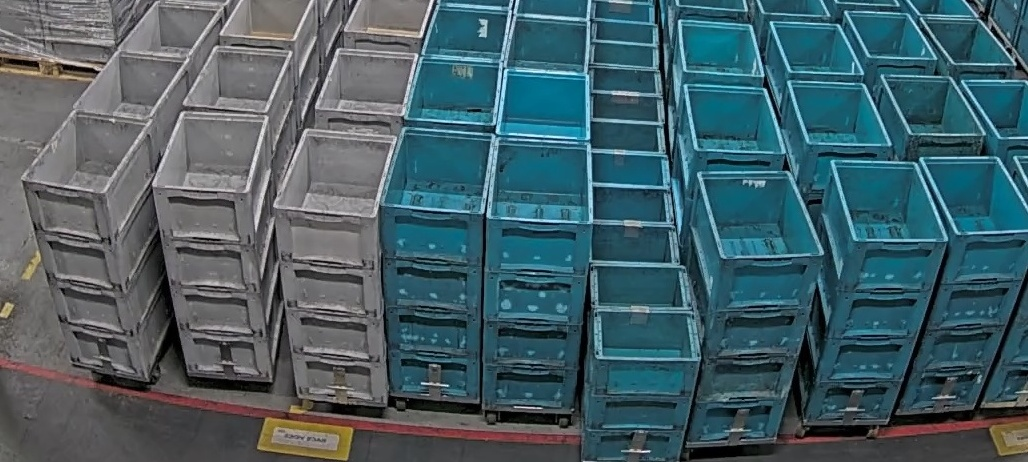4G: (19, 109, 170, 381), (153, 113, 286, 381), (272, 127, 397, 404)
B4: (796, 160, 948, 420), (689, 170, 826, 442), (894, 155, 1028, 415), (379, 126, 493, 403), (485, 137, 593, 414)
B8: (583, 264, 702, 461)
